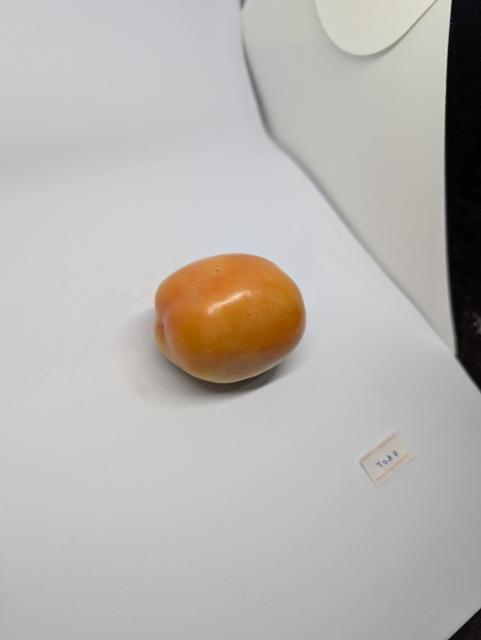turning: (136, 237, 319, 388)
